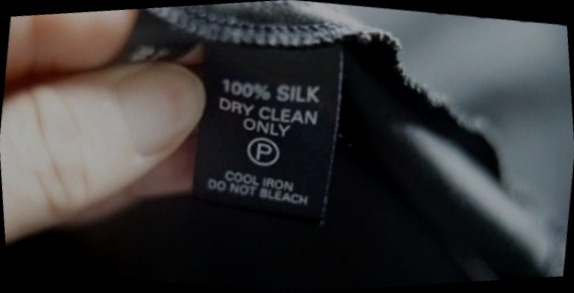dry_clean_any_solvent_except_trichloroethylene: (242, 129, 287, 172)
